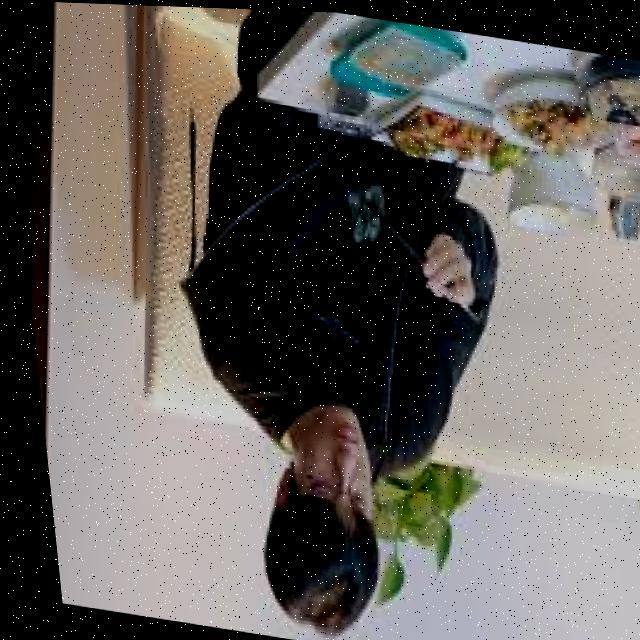eating-person: (124, 4, 558, 640)
